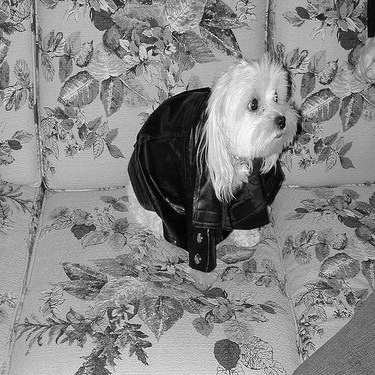dog: (115, 42, 304, 272)
